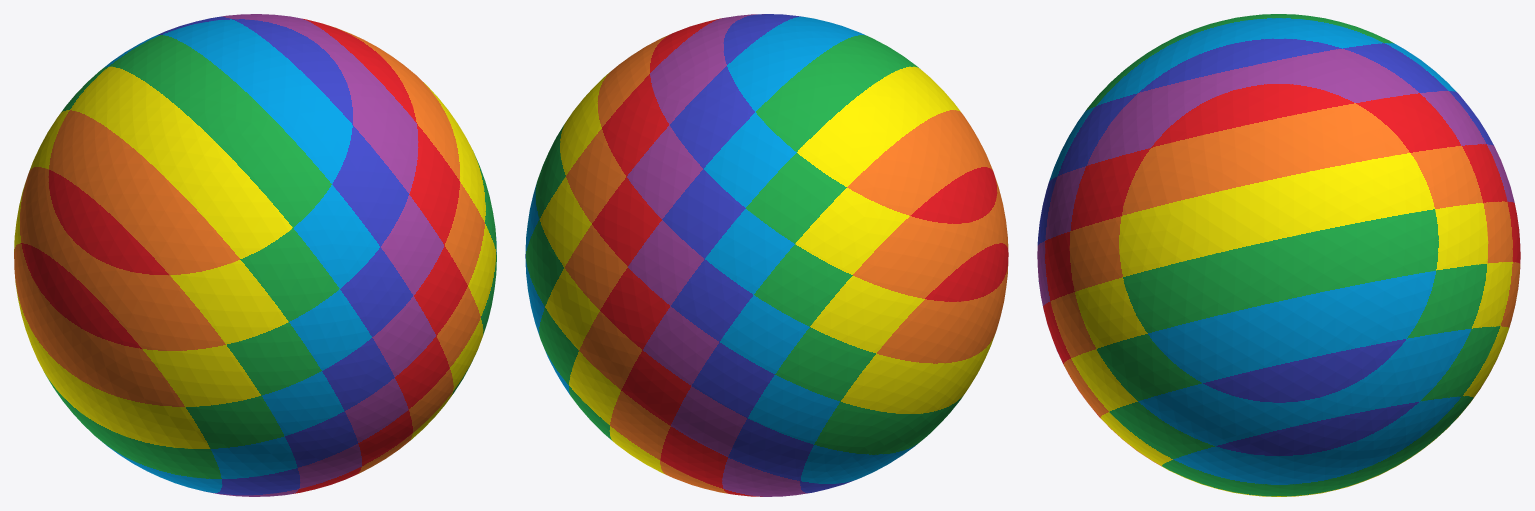
Rendered from ball.obj.
The picture shows the model from 3 angles, left to right: view 1: azimuth 30°, elevation 25°; view 2: azimuth 150°, elevation 25°; view 3: azimuth 270°, elevation 25°; orthographic projection.
Parts seen in each view (by area): view 1: Object.1; view 2: Object.1; view 3: Object.1.
Boxes of the visible parts, x1,y1,x2,y2 form: Object.1: (14,14,496,496); Object.1: (525,14,1008,496); Object.1: (1037,14,1520,496).
Bounding box in the file's own units: 2 × 2 × 2.
Materials: 1 (1 with a texture image).
